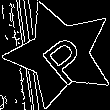P_NW: (29, 23, 91, 85)
